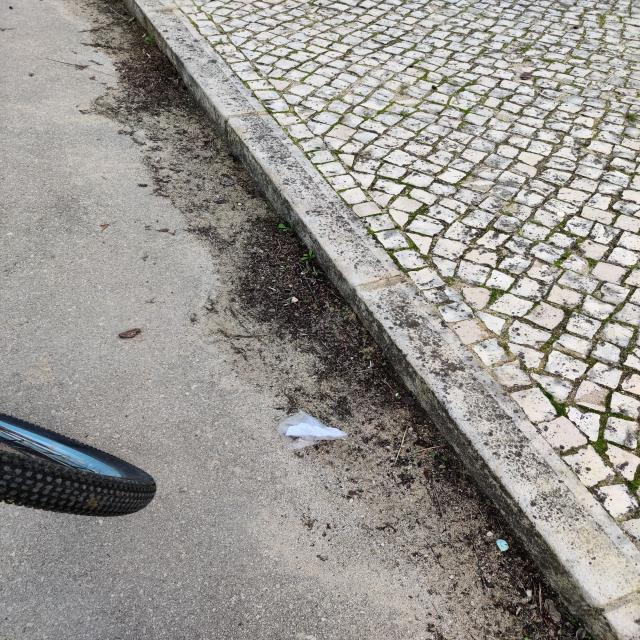litter: (252, 399, 365, 450)
